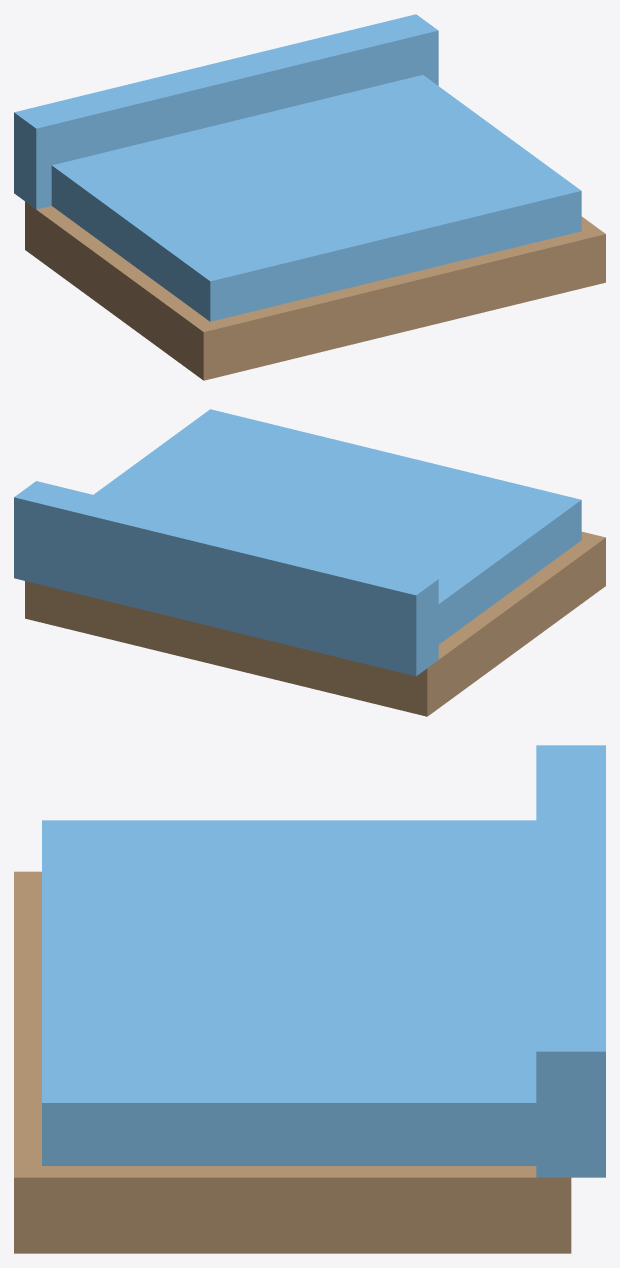
The model's file is Prop_Pet_AMF_Bed_V17.glb.
3 renders of one model, top to bottom at view 1: azimuth 30°, elevation 25°; view 2: azimuth 150°, elevation 25°; view 3: azimuth 270°, elevation 25°, orthographic. The views are drawn at different scales.
Visible parts, largest first — view 1: Prop_Pet_AMF_Bed_V17; view 2: Prop_Pet_AMF_Bed_V17; view 3: Prop_Pet_AMF_Bed_V17.
Part boxes in pixels (x1,y1,x2,y2): Prop_Pet_AMF_Bed_V17: (14,14,605,380); Prop_Pet_AMF_Bed_V17: (14,409,605,716); Prop_Pet_AMF_Bed_V17: (14,745,605,1253).
Size of the model in its own units: 1.04 by 0.32 by 0.85.
